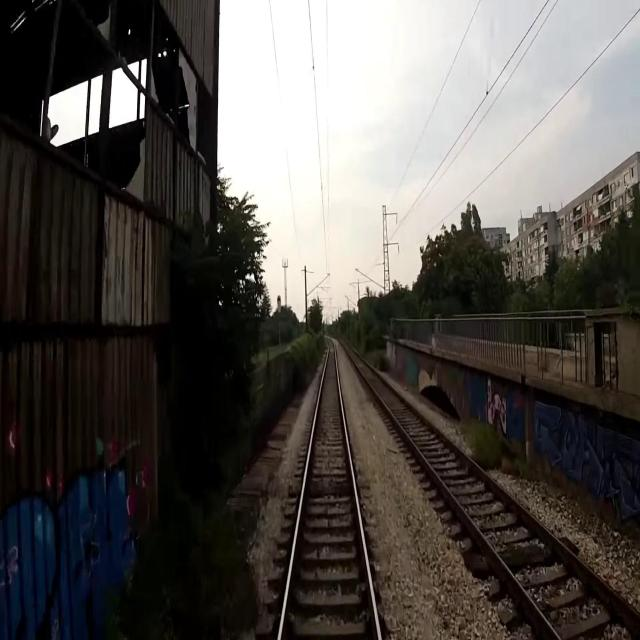rail-track: (346, 347, 640, 639), (287, 342, 371, 601)
